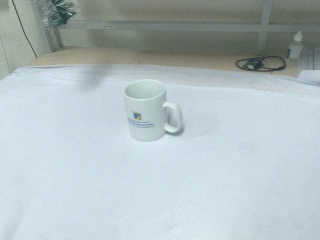bottle: (286, 31, 304, 65)
cup: (123, 78, 185, 144)
